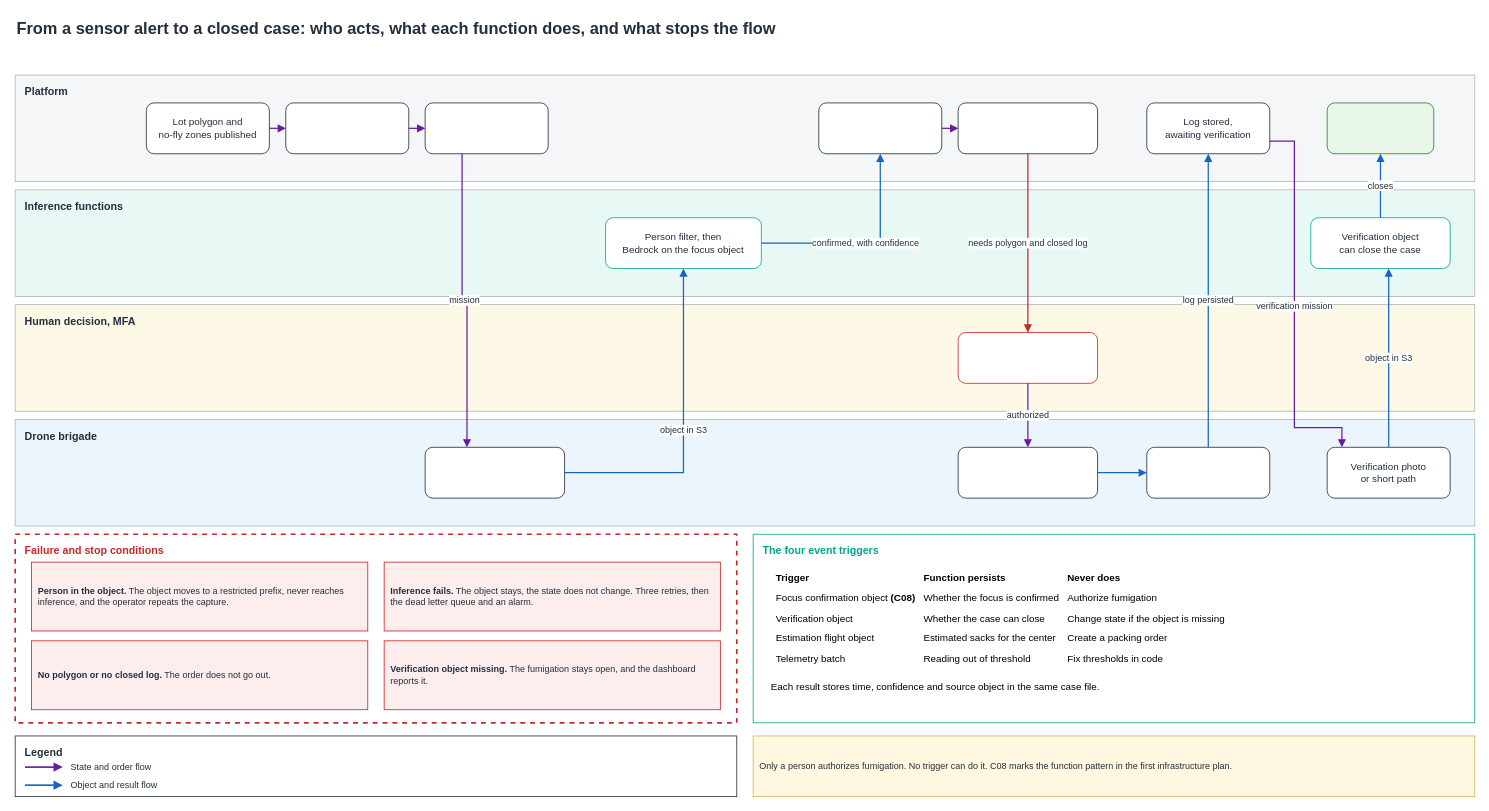
The diagram is 1489 pixels wide and 811 high, and some of its shapes have lost their labels. Here are the shapes that lost their labels. From the top down, the centre of each, then its label:
At (x=347, y=128): "Reading out of range raises an alert".
At (x=486, y=128): "Confirmation mission issued".
At (x=880, y=128): "Focus confirmed, case open".
At (x=1027, y=128): "Fumigation order: farm, lot, reason, window, operator".
At (x=1380, y=128): "Case closed".
At (x=1027, y=357): "Supervisor authorizes the order, named person".
At (x=494, y=472): "Flies to the focus, uploads object and log".
At (x=1027, y=472): "Fumigates in the window, records product lot".
At (x=1208, y=472): "Closes the fumigation flight log".
